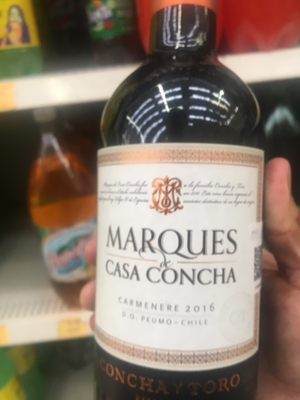marques de casa concha carmenere: (99, 23, 276, 391)
